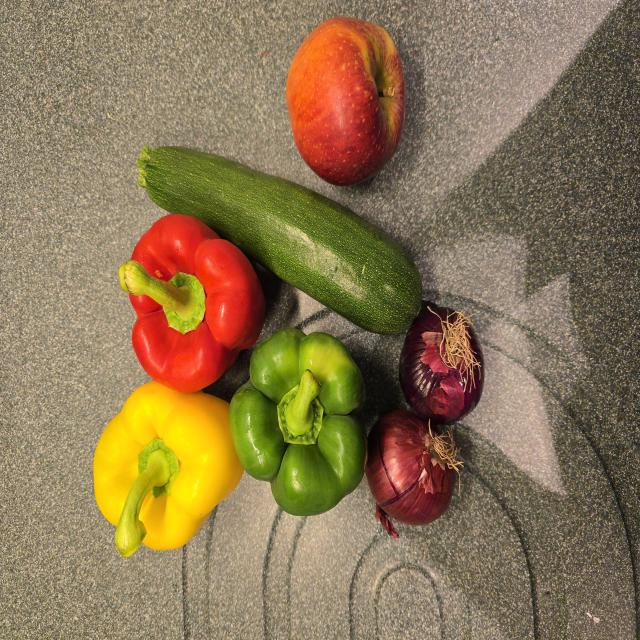Apple: (286, 17, 405, 185)
Bell Pepper: (94, 381, 244, 556), (118, 215, 265, 393), (228, 328, 367, 516)
Courgette: (137, 147, 421, 334)
Onion: (365, 410, 455, 537), (399, 306, 484, 424)
